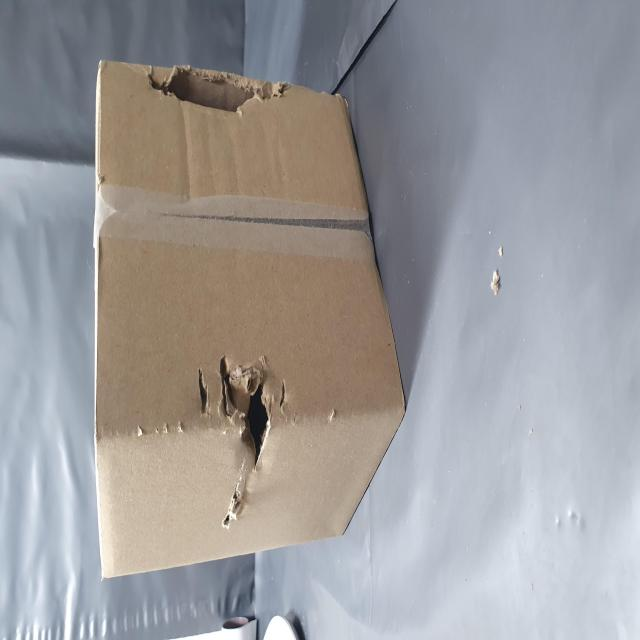damaged: (297, 271, 327, 499), (101, 395, 155, 496)
